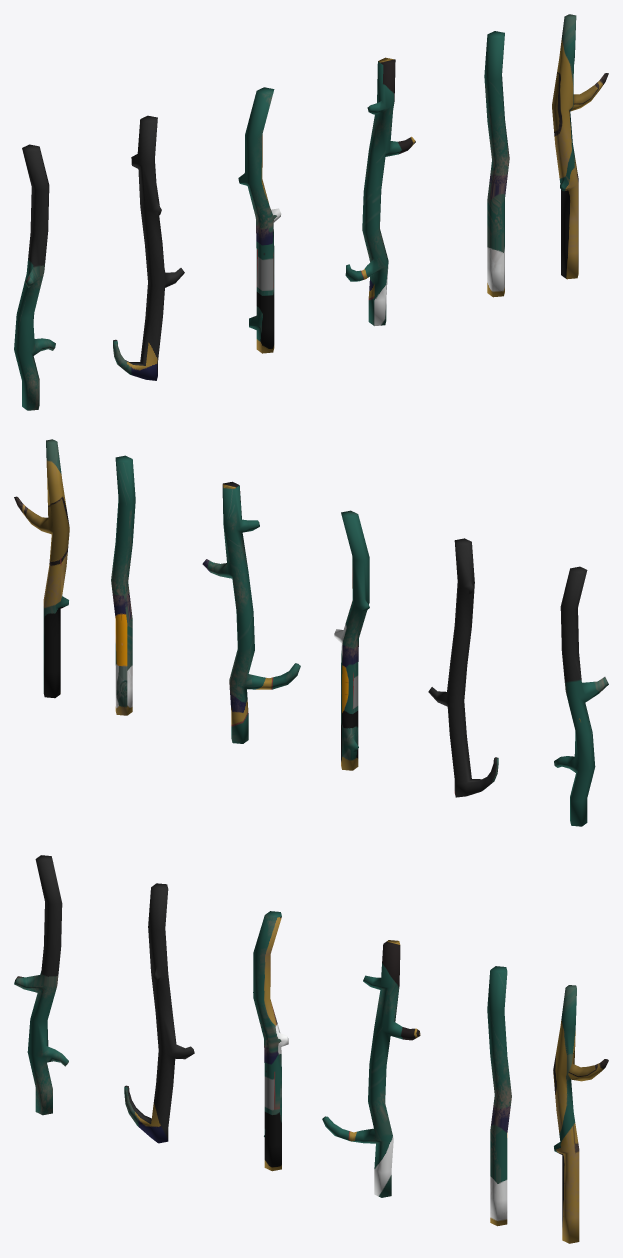
File: Ветки.fbx
3 views of the same model, one above another, from view 1: azimuth 30°, elevation 25°; view 2: azimuth 150°, elevation 25°; view 3: azimuth 330°, elevation 25° (orthographic). The views are drawn at different scales.
Parts seen in each view (by area): view 1: Ветка3, Ветка, Ветка4, Ветка6, Ветка2, Ветка5; view 2: Ветка3, Ветка6, Ветка, Ветка4, Ветка2, Ветка5; view 3: Ветка3, Ветка, Ветка6, Ветка4, Ветка2, Ветка5.
Boxes of the visible parts, bbox=[...] form: Ветка3: bbox=[345, 57, 415, 326]; Ветка: bbox=[113, 115, 184, 380]; Ветка4: bbox=[552, 14, 608, 279]; Ветка6: bbox=[14, 144, 55, 410]; Ветка2: bbox=[238, 87, 281, 353]; Ветка5: bbox=[484, 31, 509, 297]; Ветка3: bbox=[202, 481, 300, 743]; Ветка6: bbox=[554, 566, 608, 826]; Ветка: bbox=[428, 538, 498, 797]; Ветка4: bbox=[14, 439, 69, 698]; Ветка2: bbox=[334, 510, 369, 770]; Ветка5: bbox=[111, 455, 135, 715]; Ветка3: bbox=[322, 940, 420, 1197]; Ветка: bbox=[124, 883, 194, 1143]; Ветка6: bbox=[14, 855, 68, 1115]; Ветка4: bbox=[553, 985, 608, 1243]; Ветка2: bbox=[253, 911, 288, 1171]; Ветка5: bbox=[487, 966, 511, 1226].
Bounding box in the file's own units: 1009 × 419 × 64.98.
